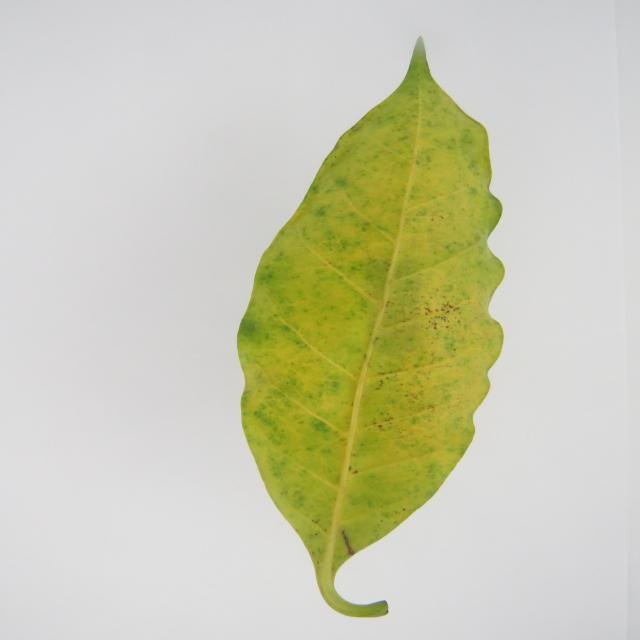DeficienciaNutricional-Calcio: (238, 40, 503, 618)
